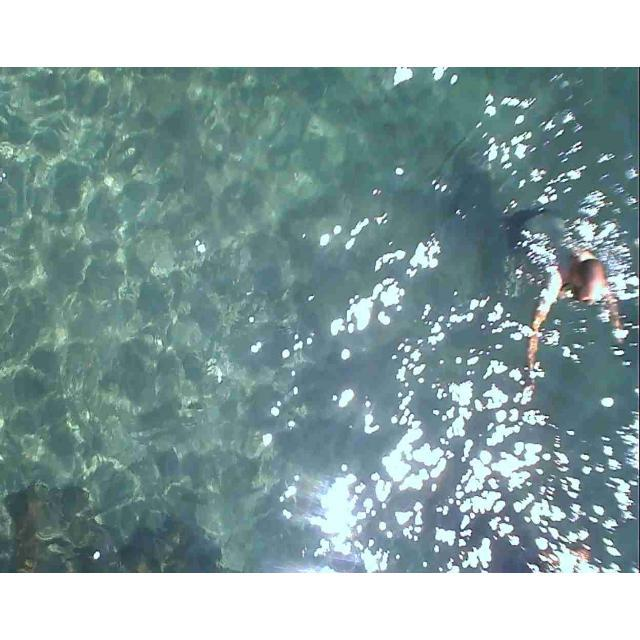human: (511, 191, 628, 378)
